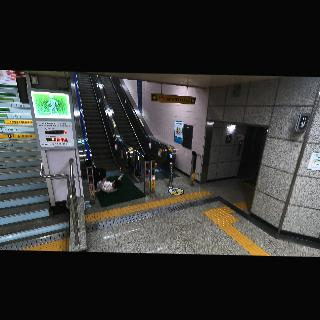anomaly: (90, 157, 124, 195)
